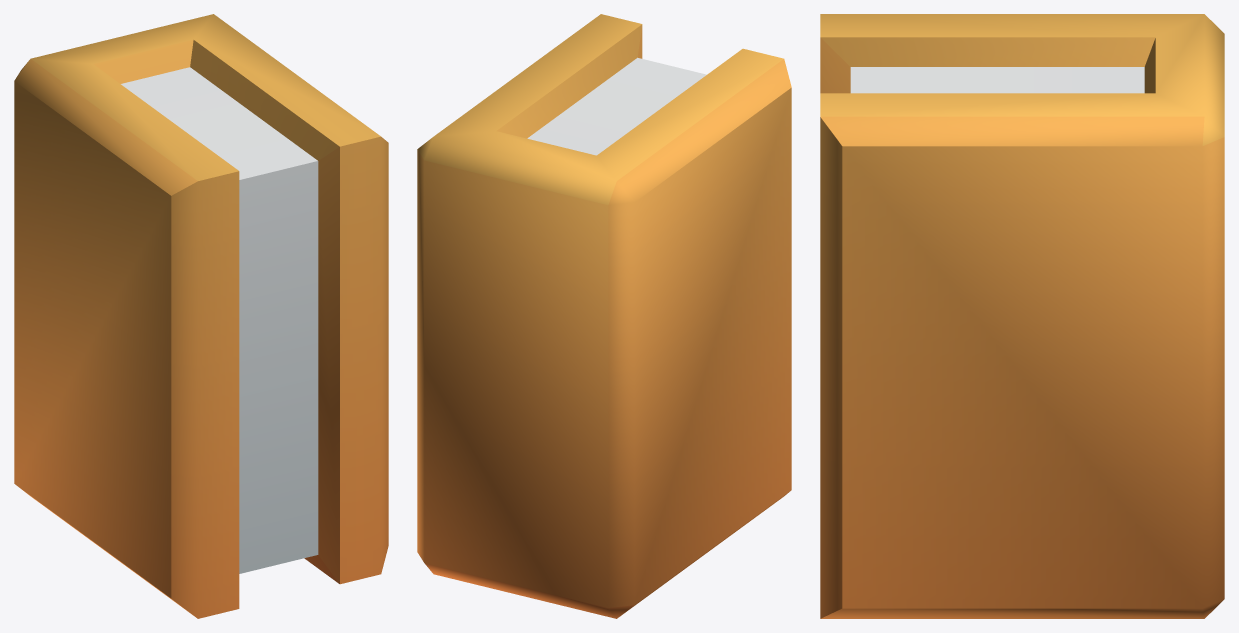
3 renders of one model, left to right at view 1: azimuth 30°, elevation 25°; view 2: azimuth 150°, elevation 25°; view 3: azimuth 270°, elevation 25°, orthographic. The views are drawn at different scales.
Parts seen in each view (by area): view 1: book_single; view 2: book_single; view 3: book_single.
Part boxes in pixels (left/top/right/bottom): book_single: left=14, top=14, right=388, bottom=618; book_single: left=417, top=14, right=791, bottom=618; book_single: left=820, top=14, right=1224, bottom=618.
Bounding box in the file's own units: 0.26 × 0.5 × 0.365.
Materials: 1 (1 with a texture image).
